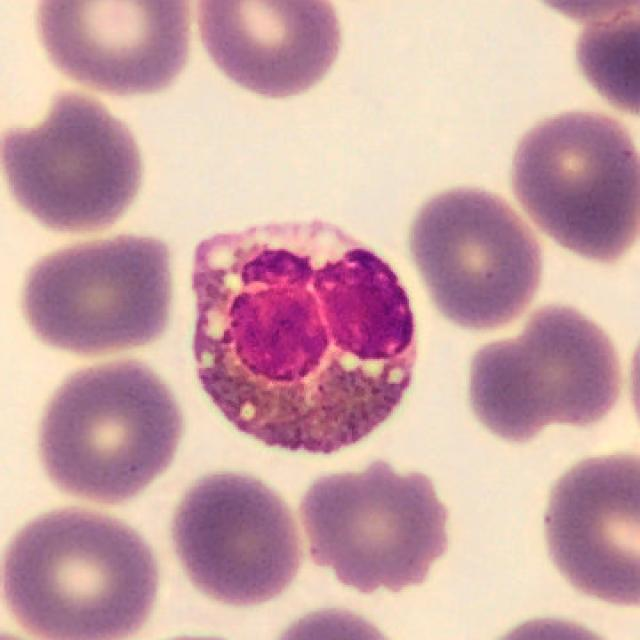Eosinofilo: (192, 219, 420, 455)
